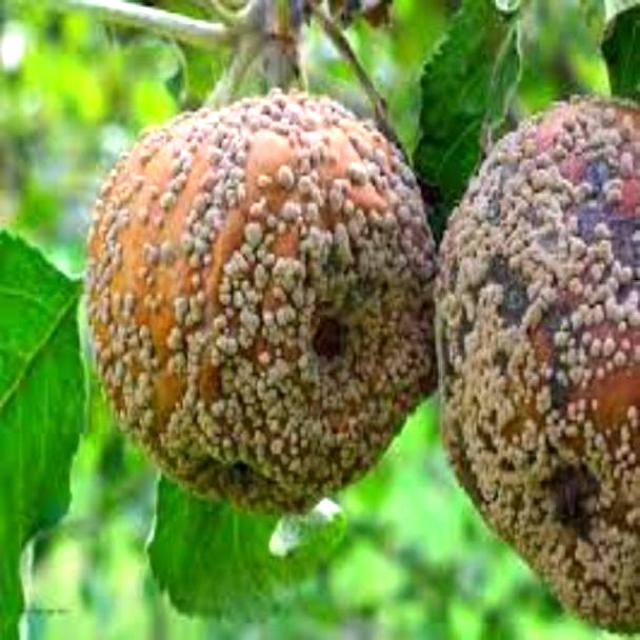SCAB: (73, 66, 430, 524), (444, 47, 639, 635)
